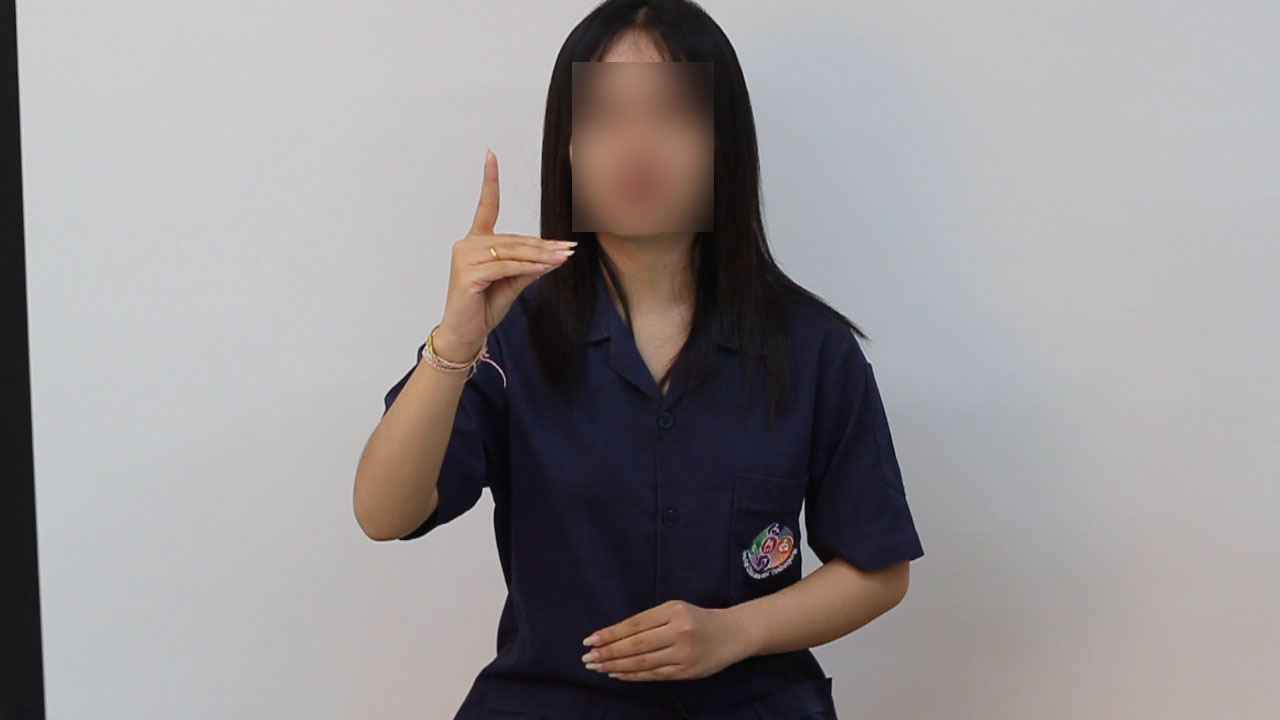dor: (428, 140, 585, 340)
